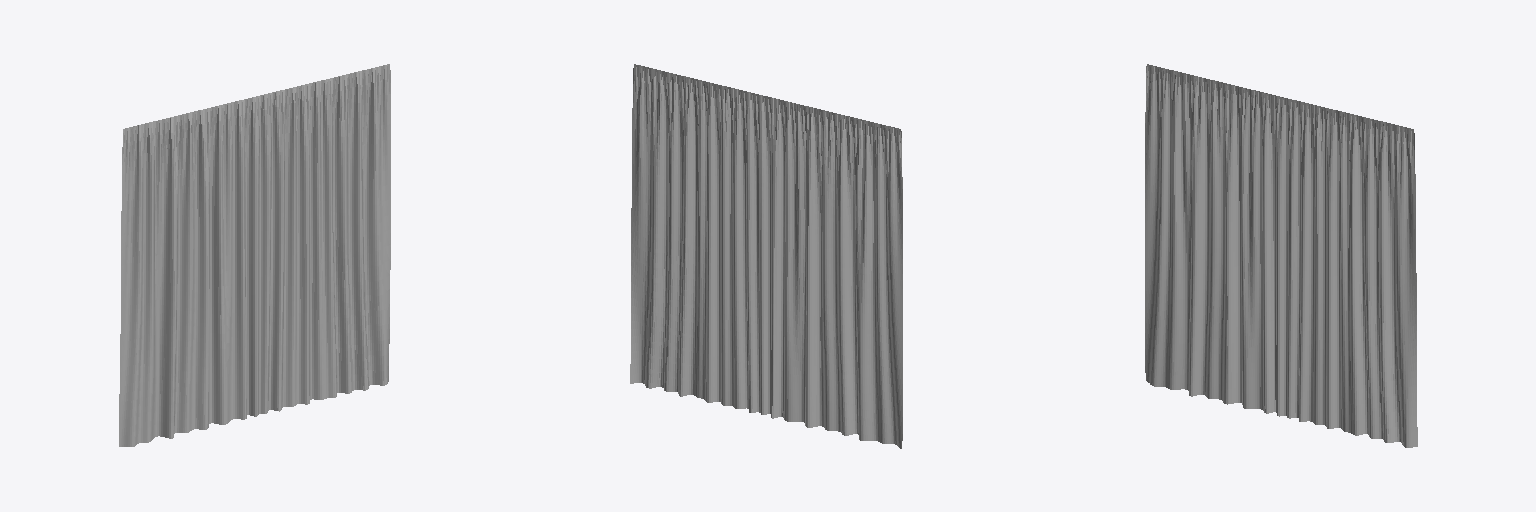
File: curtain.obj
3 views of the same model, side by side, from view 1: azimuth 30°, elevation 25°; view 2: azimuth 150°, elevation 25°; view 3: azimuth 330°, elevation 25° (orthographic).
Visible parts, largest first — view 1: Plane.002; view 2: Plane.002; view 3: Plane.002.
Part boxes in pixels (x1,y1,x2,y2): Plane.002: (119,64,390,446); Plane.002: (630,64,902,448); Plane.002: (1145,64,1417,447).
Bounding box in the file's own units: 2.6 × 2.92 × 0.1.